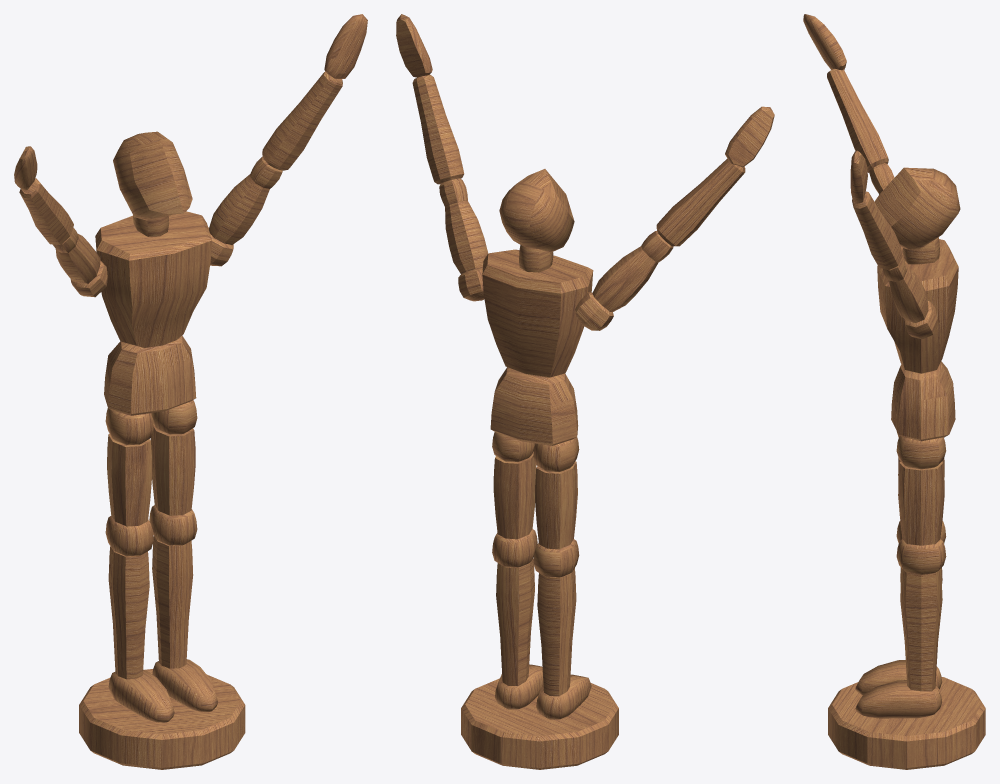
Rendered from SM_mannequin_05.fbx.
The picture shows the model from 3 angles, left to right: view 1: azimuth 30°, elevation 25°; view 2: azimuth 150°, elevation 25°; view 3: azimuth 270°, elevation 25°; orthographic projection. The views are drawn at different scales.
Parts seen in each view (by area): view 1: mannequin02; view 2: mannequin02; view 3: mannequin02.
Part boxes in pixels (x1,y1,x2,y2): mannequin02: (14, 14, 367, 769); mannequin02: (396, 14, 774, 769); mannequin02: (803, 14, 985, 769).
Bounding box in the file's own units: 10.97 × 19.73 × 4.91.
Materials: 1 (1 with a texture image).
